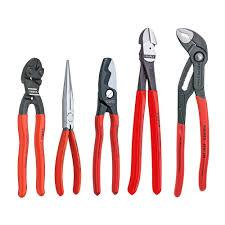pliers: (126, 26, 163, 196), (173, 24, 209, 196), (53, 58, 81, 195)
